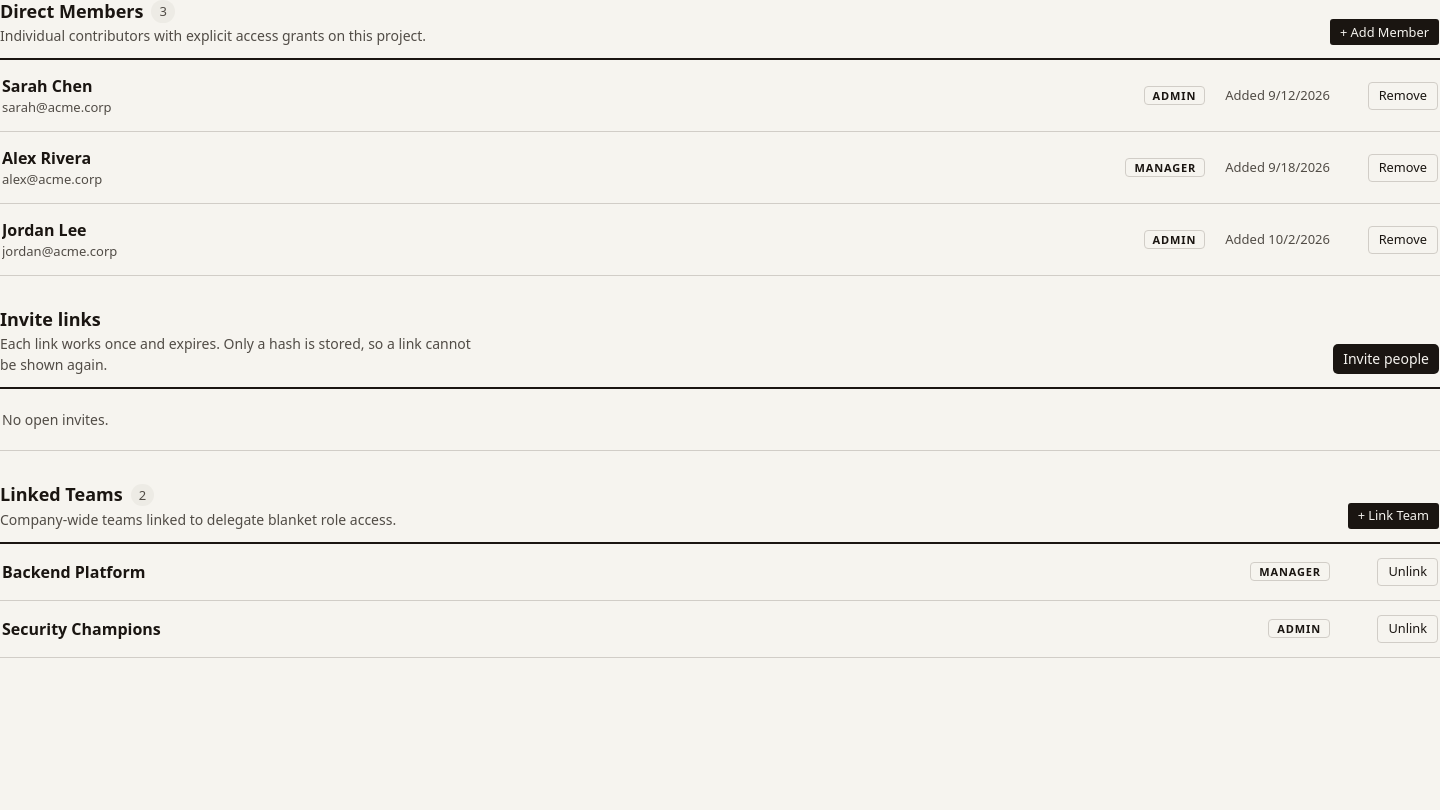
ProjectAccess › offers no Undo when the person removed is the one signed in
Expected: the text "Sarah Chen" is shown, left=2, top=75, right=92, bottom=97
Click the button "Remove" in the row of "Sarah Chen" at (1403, 96), box left=1368, top=82, right=1438, bottom=110
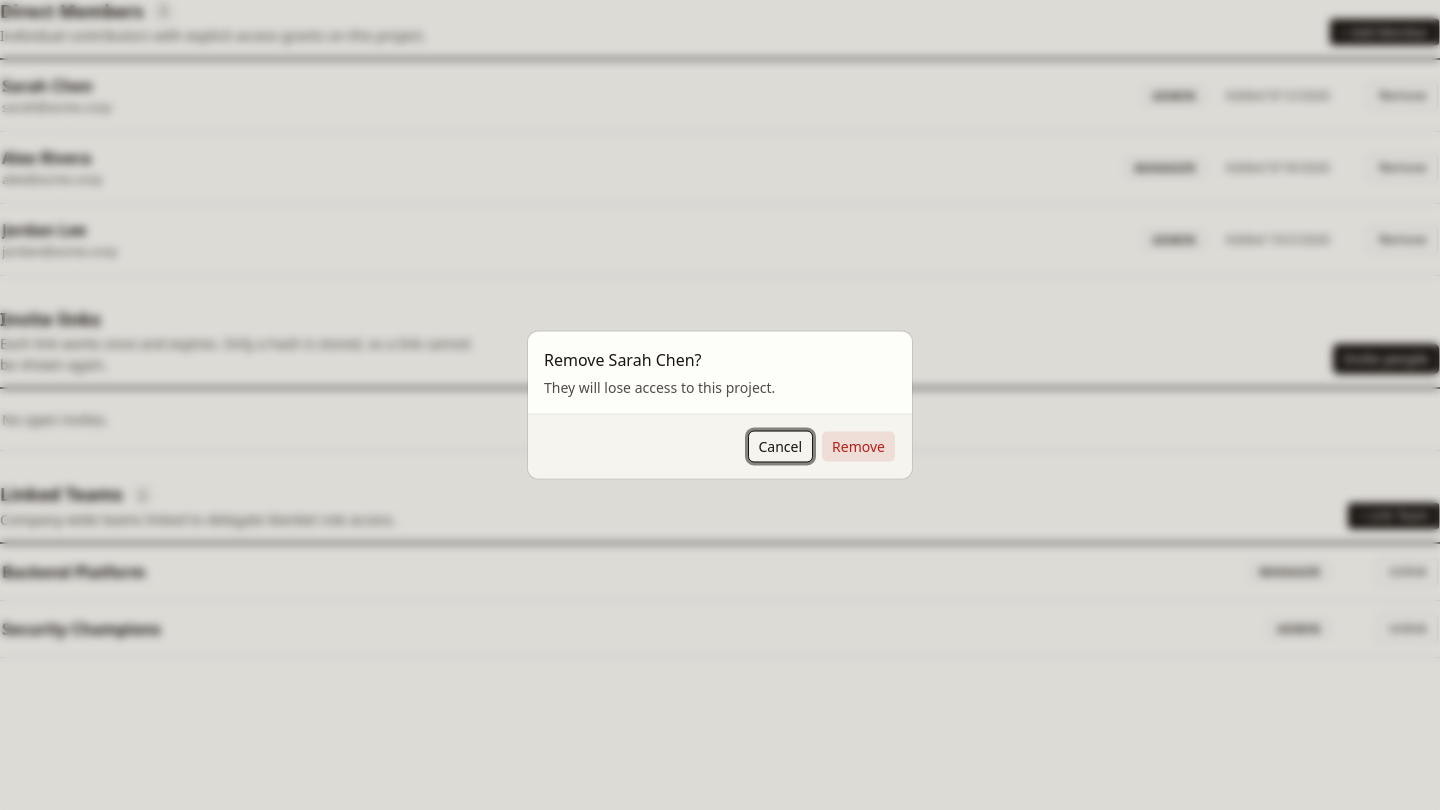
Click the button "Remove" at (859, 446), box left=821, top=430, right=896, bottom=462
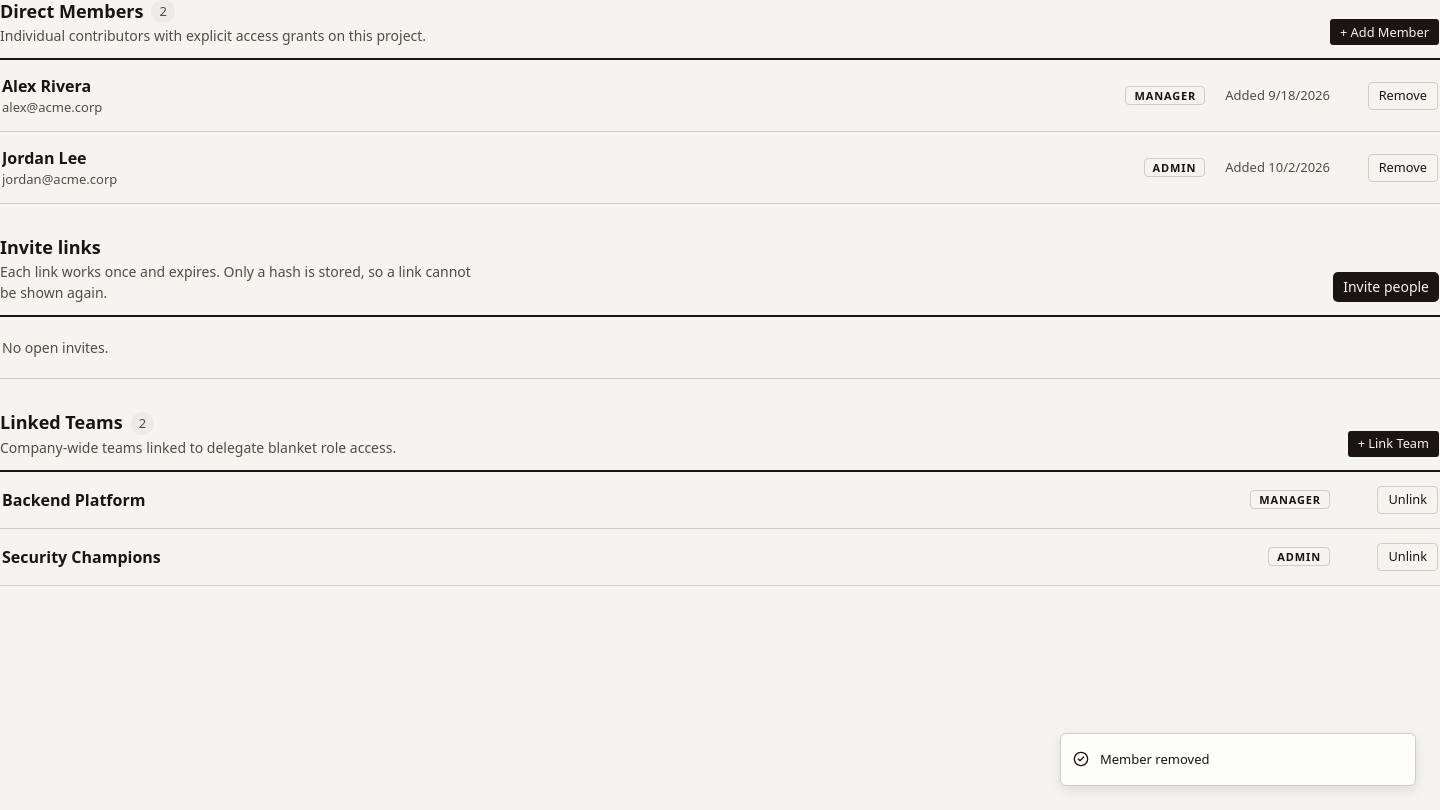
Expected: the text "Member removed" is shown, left=1100, top=750, right=1210, bottom=769
